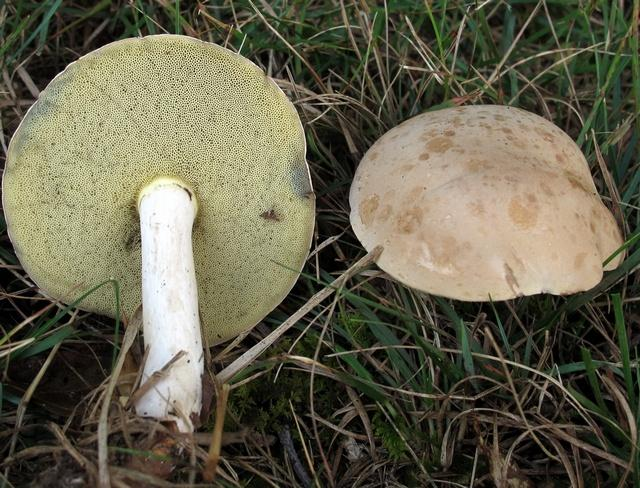Edible Mushroom: (1, 32, 316, 432), (348, 102, 626, 304)
